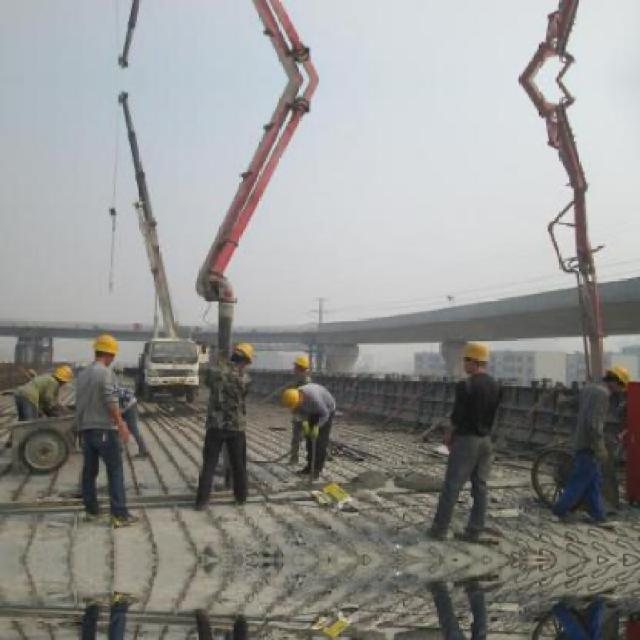helmet: (458, 338, 496, 377), (90, 332, 122, 366), (603, 364, 629, 394), (232, 340, 258, 368), (283, 385, 308, 409), (54, 365, 77, 389), (294, 354, 315, 375)
